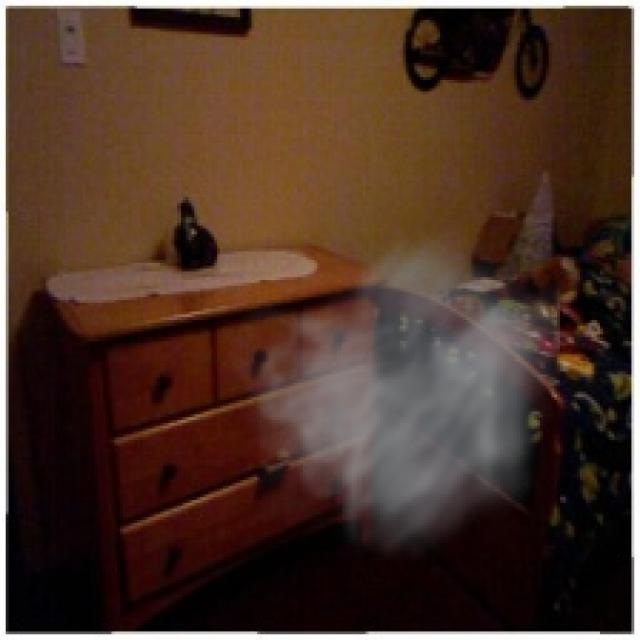smoke: (217, 220, 560, 569)
